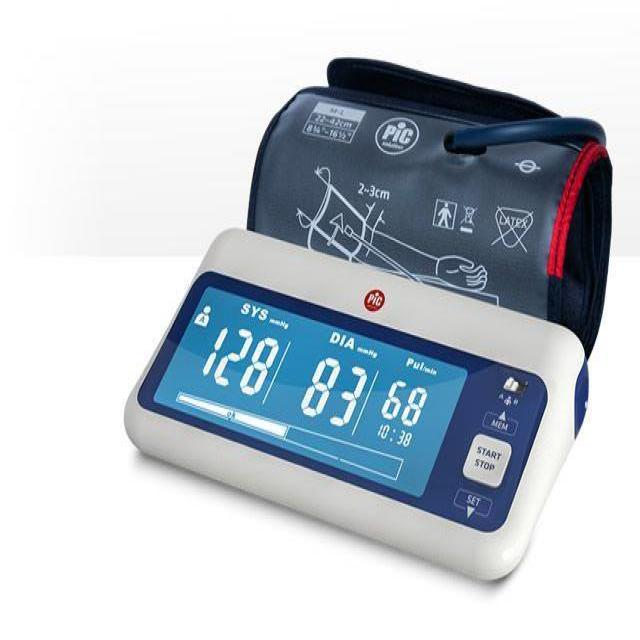dia: (285, 341, 376, 434)
pul: (369, 364, 436, 431)
ssd: (155, 270, 469, 502)
sys: (188, 306, 290, 405)
